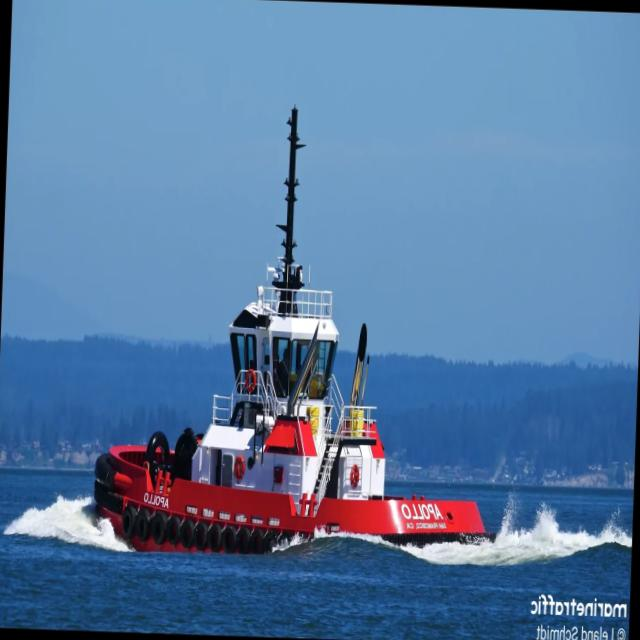Tug: (94, 110, 485, 555)
